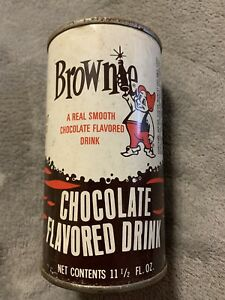Can: (41, 17, 179, 293)
